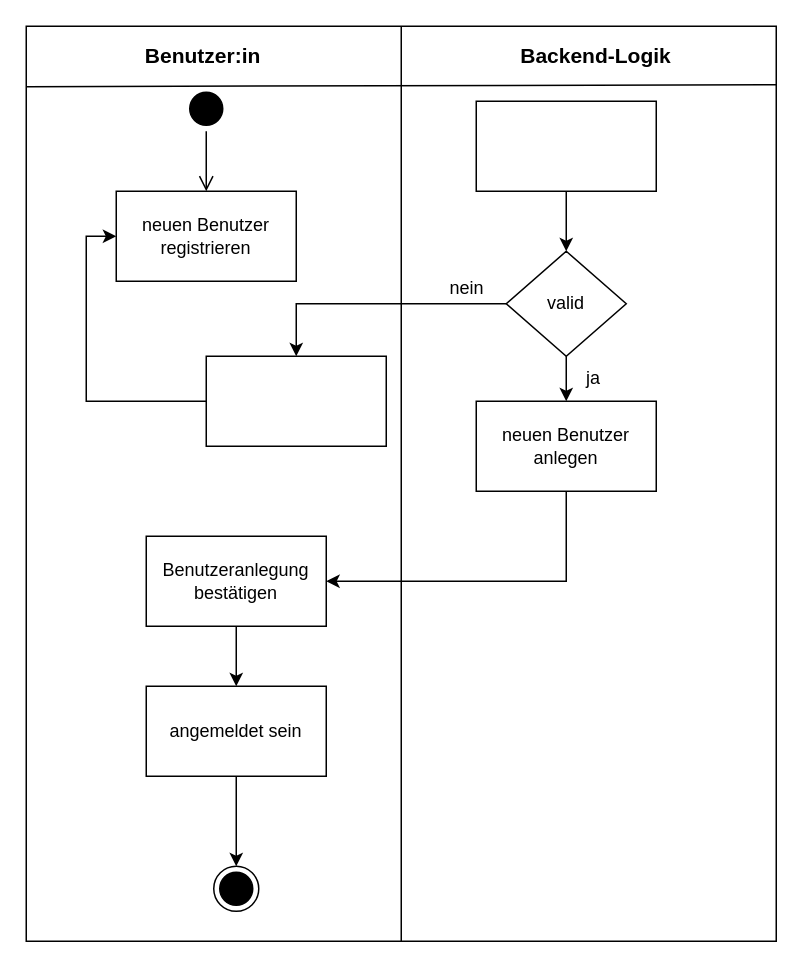
Some shapes in this 804 by 969 pixel diagram are drawn without their labels. Each missing label, with the box of its shape:
Daten validieren: (475, 100, 656, 191)
Fehlermeldung ausgeben: (205, 355, 386, 446)
